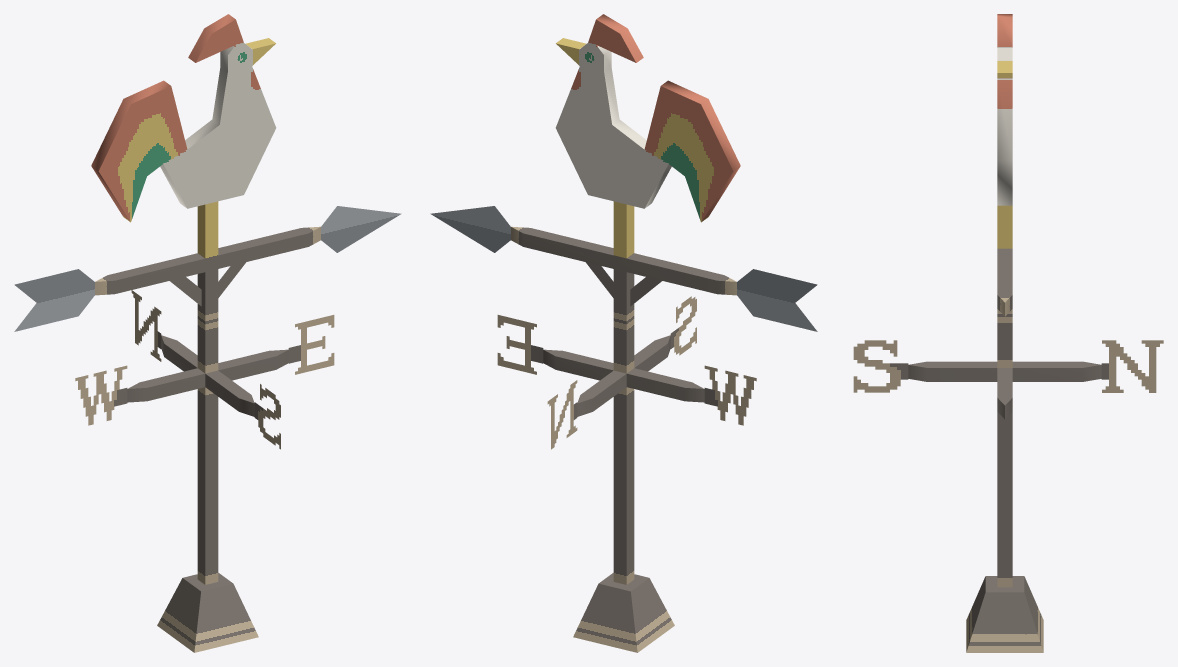
File: 02ee_Weathercock.glb
3 views of the same model, side by side, from view 1: azimuth 30°, elevation 25°; view 2: azimuth 150°, elevation 25°; view 3: azimuth 270°, elevation 25° (orthographic). The views are drawn at different scales.
Parts seen in each view (by area): view 1: part_1, part_0; view 2: part_1, part_0; view 3: part_0, part_1.
Boxes of the visible parts, x1,y1,x2,y2 form: part_1: (14,14,401,331); part_0: (75,290,334,652); part_1: (430,14,817,331); part_0: (497,296,756,652); part_0: (853,315,1163,652); part_1: (997,14,1012,316).
Bounding box in the file's own units: 1.2 × 1.8 × 0.82.
2 materials, 2 textured.
